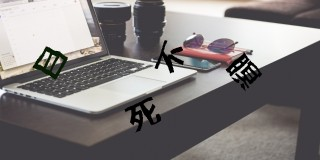不: (155, 38, 184, 73)
死: (123, 96, 162, 133)
目: (32, 46, 68, 79)
瞑: (225, 53, 263, 92)
